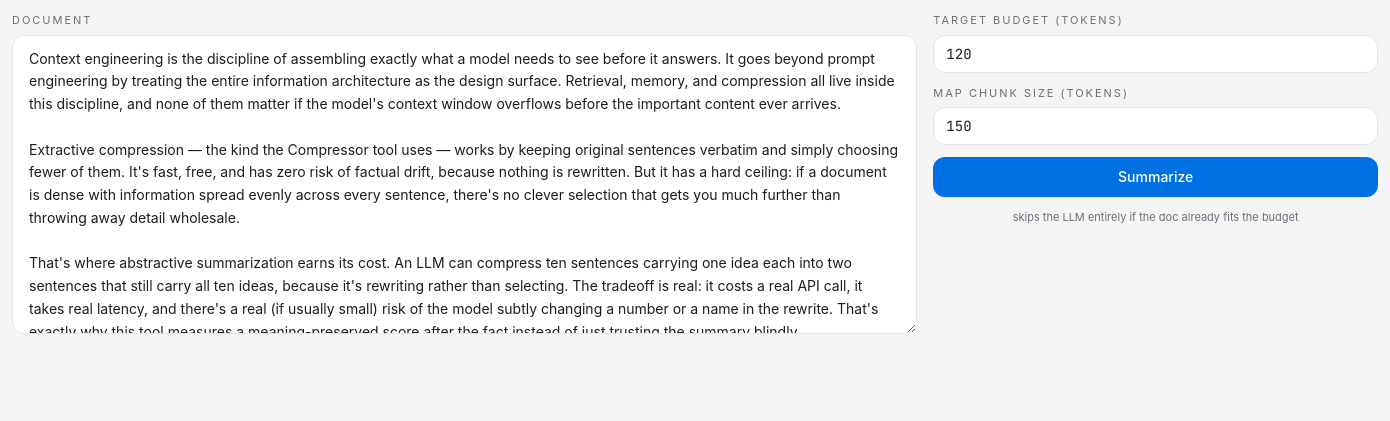
Test: DocumentSummarizer › does not get stuck on 'Summarizing...' after an error
Click the button "Summarize" at point(1156, 177), box [933,157,1378,197]
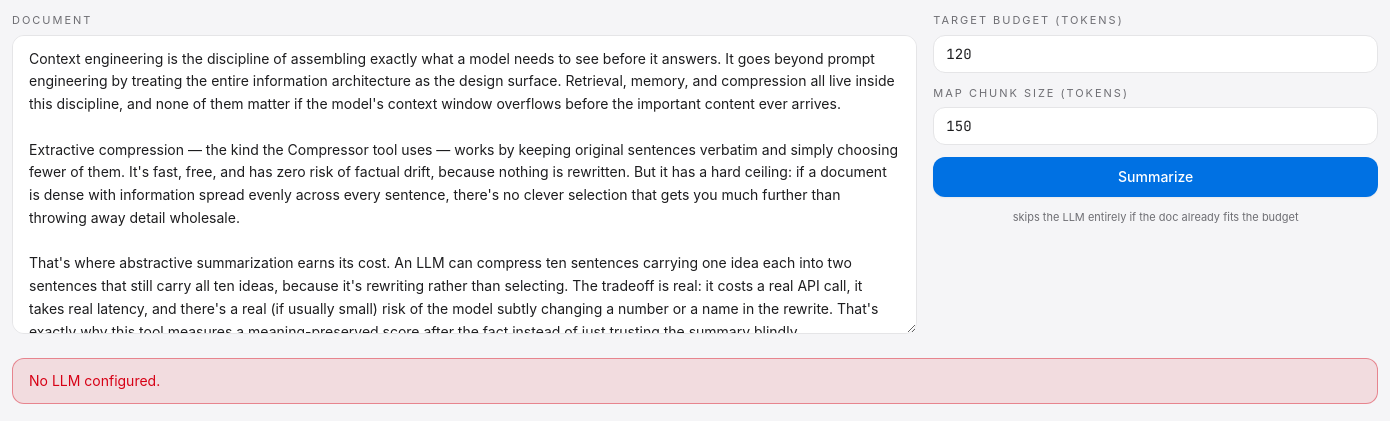
Expected: the text "No LLM configured." is shown, [12,358,1378,404]
